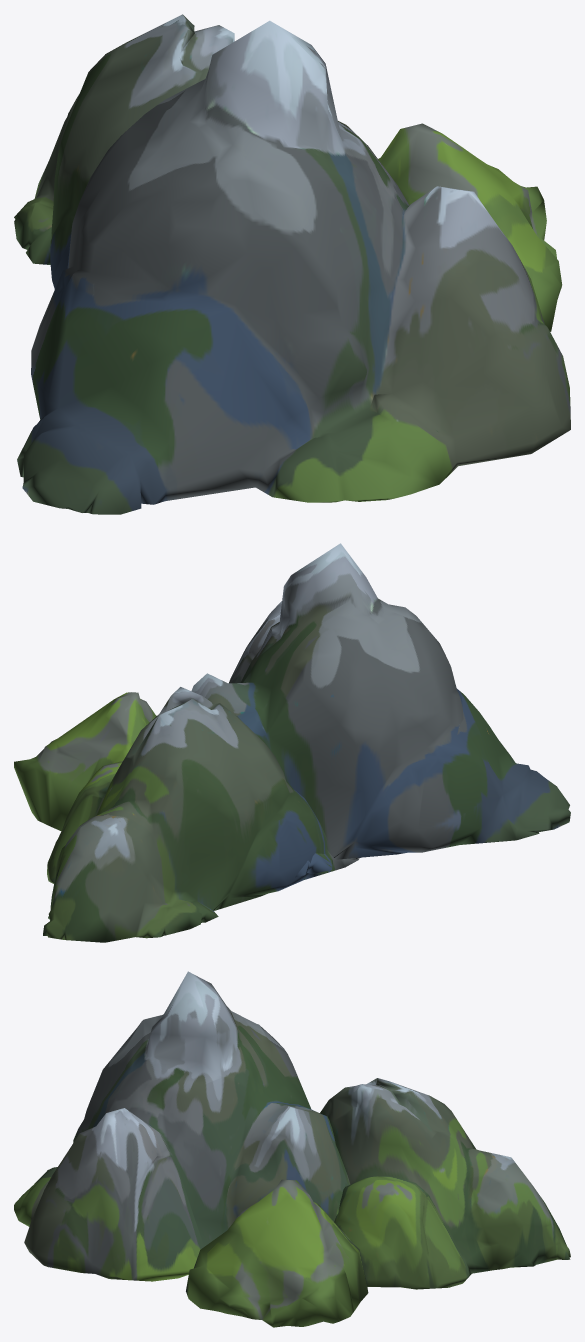
The model's file is SM_Mountains 1.fbx.
3 renders of one model, top to bottom at view 1: azimuth 30°, elevation 25°; view 2: azimuth 150°, elevation 25°; view 3: azimuth 270°, elevation 25°, orthographic. The views are drawn at different scales.
Parts seen in each view (by area): view 1: TexturedRock.004; view 2: TexturedRock.004; view 3: TexturedRock.004.
Boxes of the visible parts, x1,y1,x2,y2 form: TexturedRock.004: (14,14,570,514); TexturedRock.004: (14,543,570,942); TexturedRock.004: (14,971,570,1327).
Bounding box in the file's own units: 15681 × 8840 × 17982.
